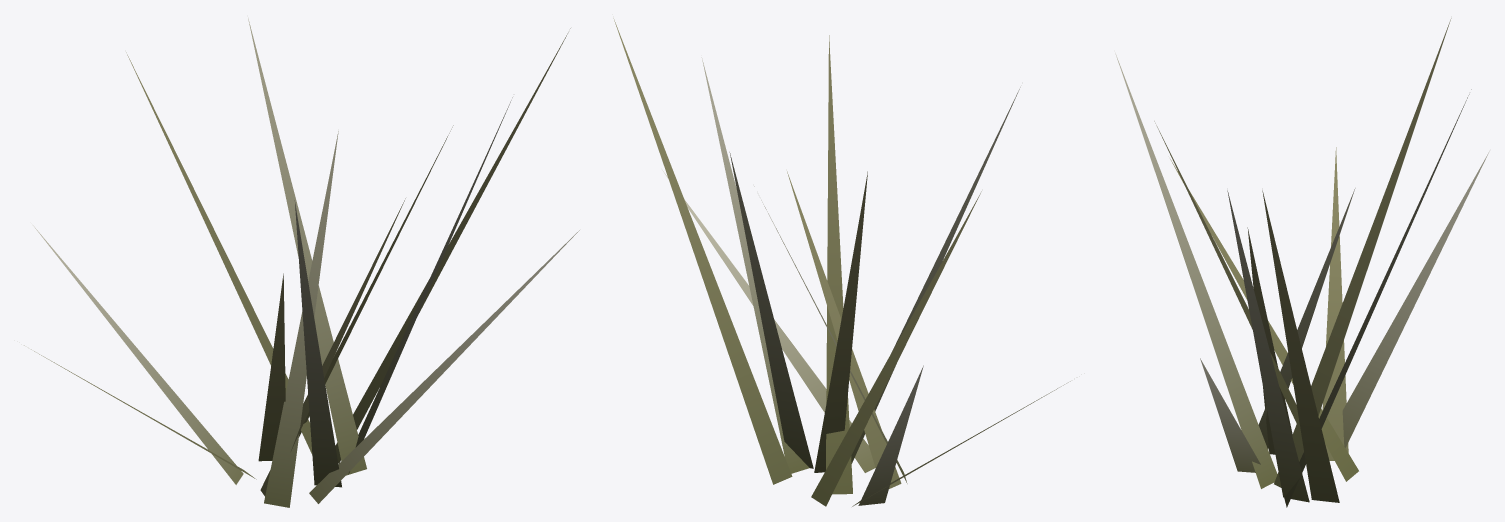
File: env_feather_grass.glb
3 renders of one model, left to right at view 1: azimuth 30°, elevation 25°; view 2: azimuth 150°, elevation 25°; view 3: azimuth 270°, elevation 25°, orthographic. The views are drawn at different scales.
Visible parts, largest first — view 1: env_feather_grass; view 2: env_feather_grass; view 3: env_feather_grass.
Part boxes in pixels (x1=…): env_feather_grass: x1=24, y1=18, x2=579, y2=507; env_feather_grass: x1=613, y1=18, x2=1070, y2=506; env_feather_grass: x1=1115, y1=18, x2=1489, y2=507.
Size of the model in its own units: 1.07 by 0.7958 by 0.6499.
